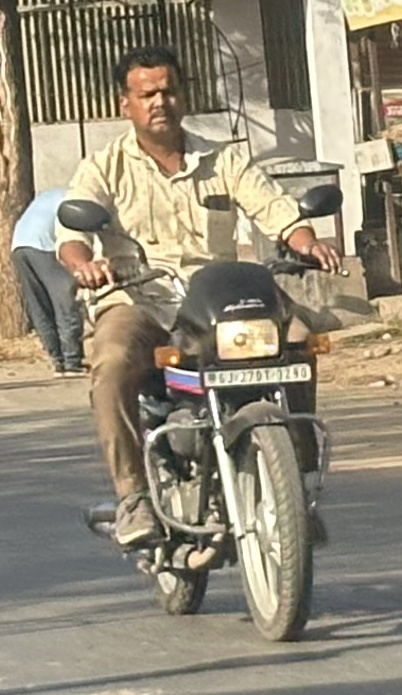BikeWithRider: (45, 39, 361, 646)
NoHelmet: (107, 39, 194, 143)
